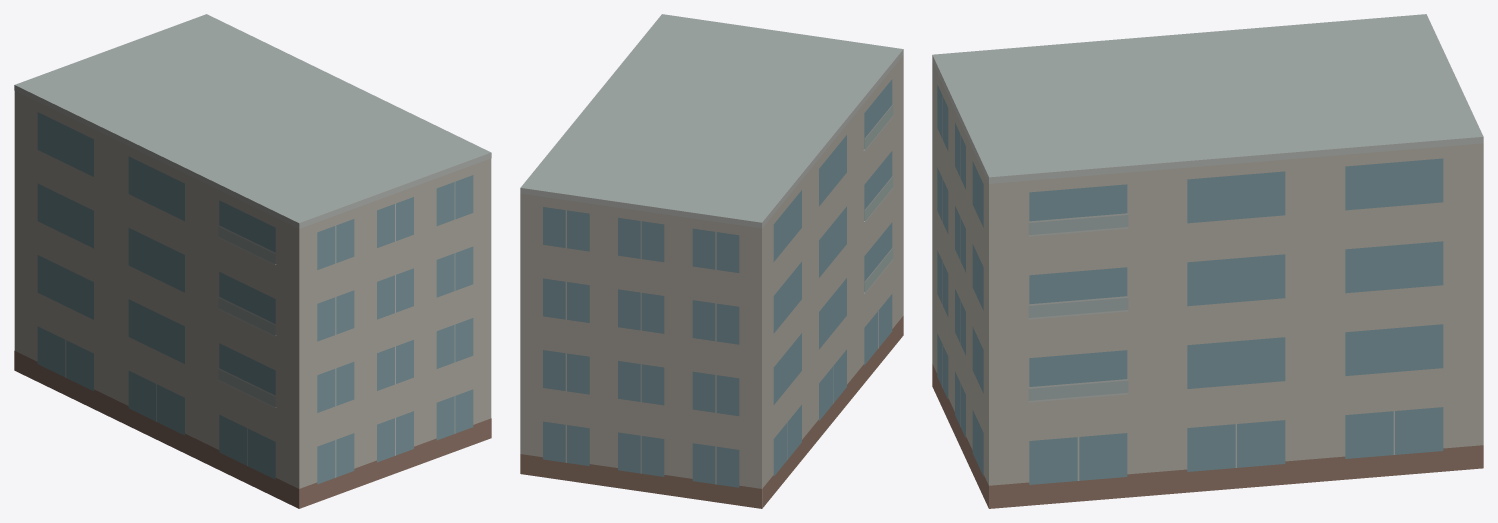
The model's file is survey-upis-32697697.glb.
The picture shows the model from 3 angles, left to right: view 1: azimuth 30°, elevation 25°; view 2: azimuth 150°, elevation 25°; view 3: azimuth 270°, elevation 25°; orthographic projection. The views are drawn at different scales.
Parts seen in each view (by area): view 1: survey-upis-32697697.tmp; view 2: survey-upis-32697697.tmp; view 3: survey-upis-32697697.tmp.
Boxes of the visible parts, bbox=[...] form: survey-upis-32697697.tmp: bbox=[14, 14, 491, 508]; survey-upis-32697697.tmp: bbox=[520, 14, 903, 508]; survey-upis-32697697.tmp: bbox=[932, 14, 1483, 508].
Bounding box in the file's own units: 12.9 × 12.2 × 18.4.
